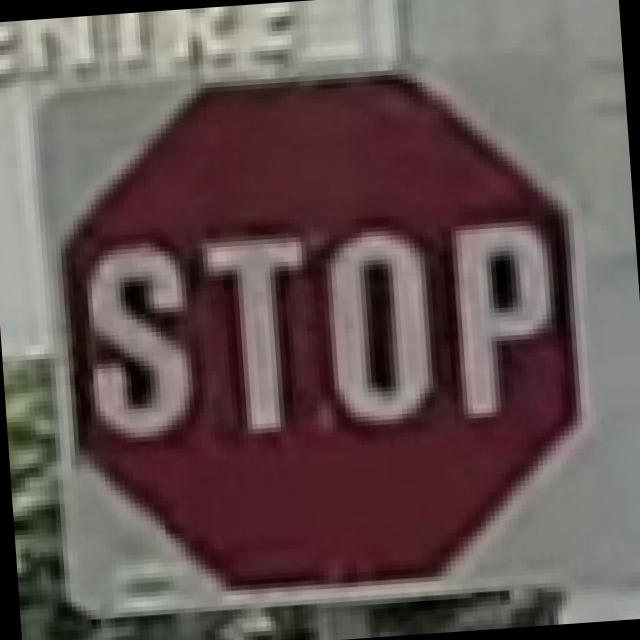mandatorystop_sign: (27, 49, 604, 616)
